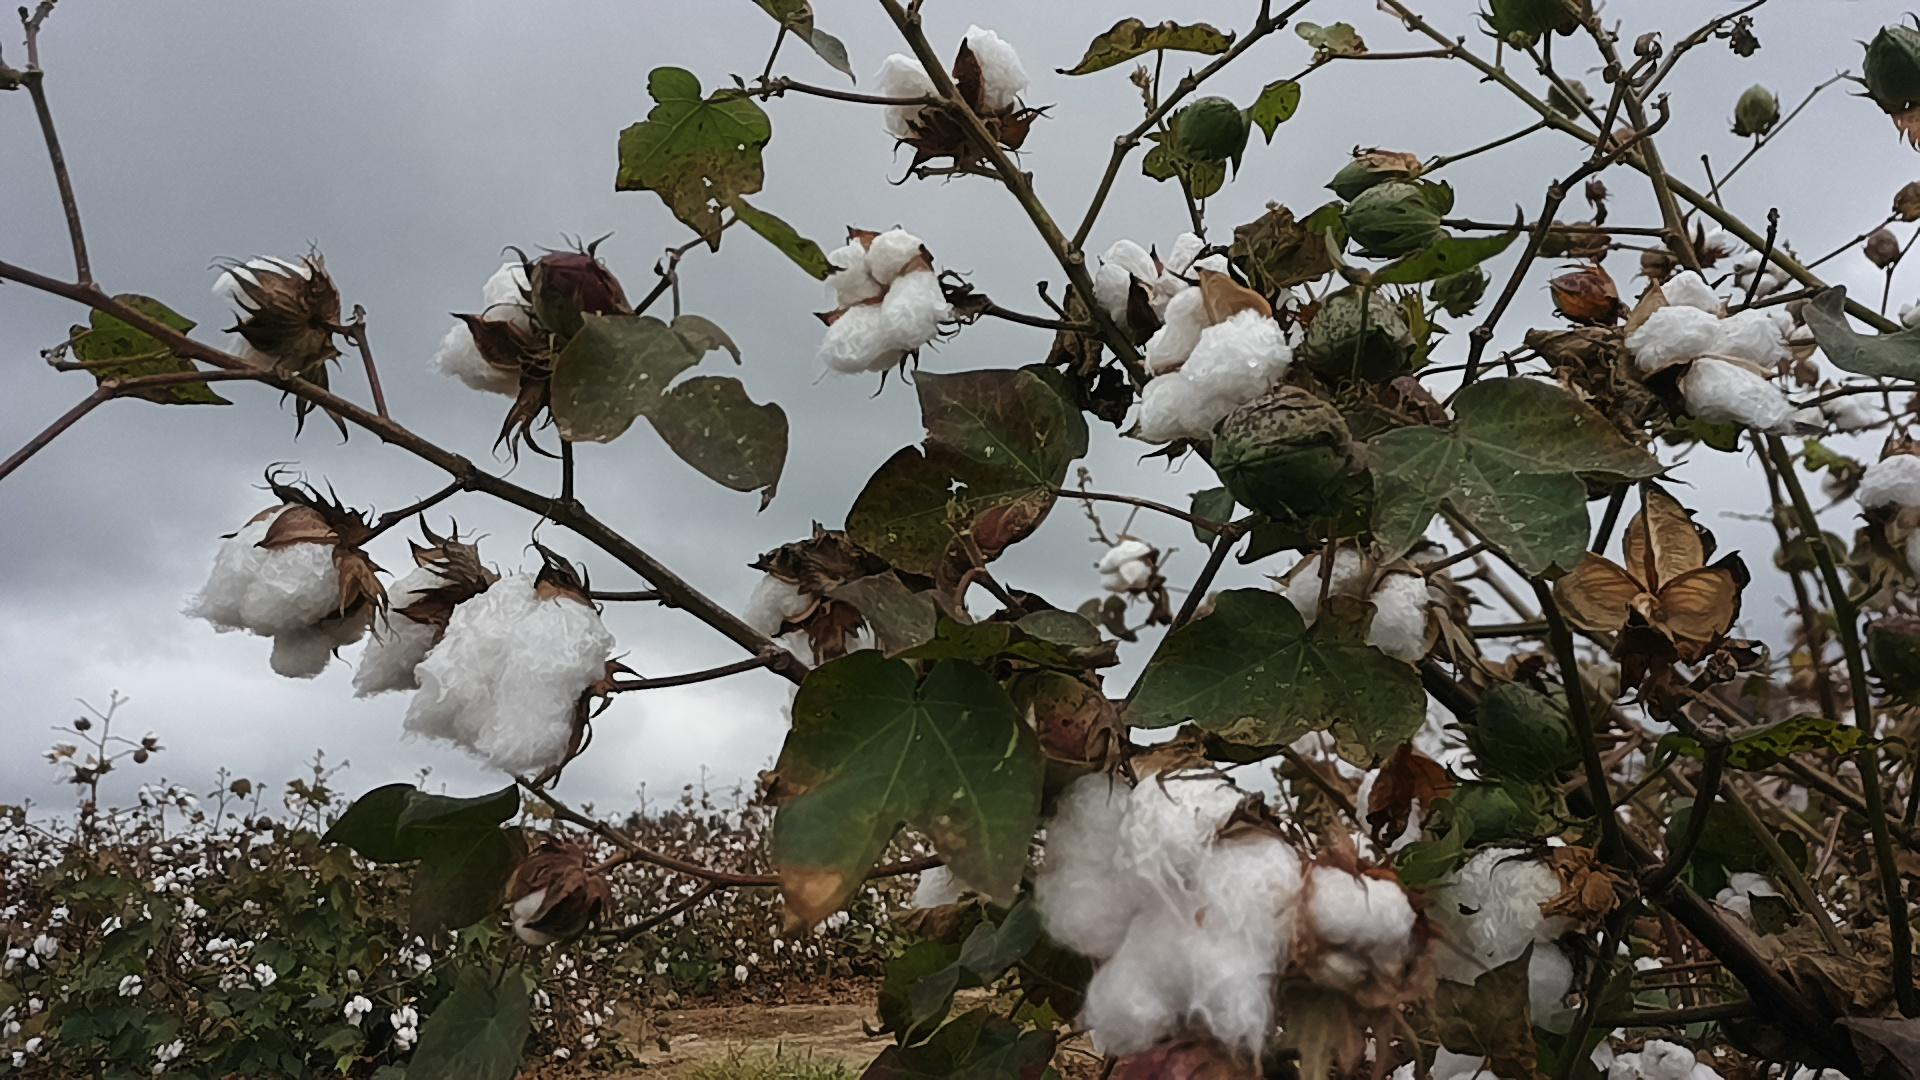cotton_ready: (1039, 767, 1303, 1056), (402, 578, 611, 775), (1416, 840, 1581, 1025), (187, 508, 357, 684), (1126, 286, 1288, 440), (1638, 273, 1784, 431), (742, 560, 878, 709), (882, 25, 1023, 160), (822, 228, 951, 367), (431, 256, 549, 397), (1279, 550, 1433, 655), (352, 555, 463, 695), (1316, 873, 1420, 986), (1096, 231, 1218, 327), (216, 256, 310, 373), (1866, 448, 1920, 568), (1610, 1043, 1727, 1080), (918, 843, 982, 909), (1387, 1046, 1509, 1080)
